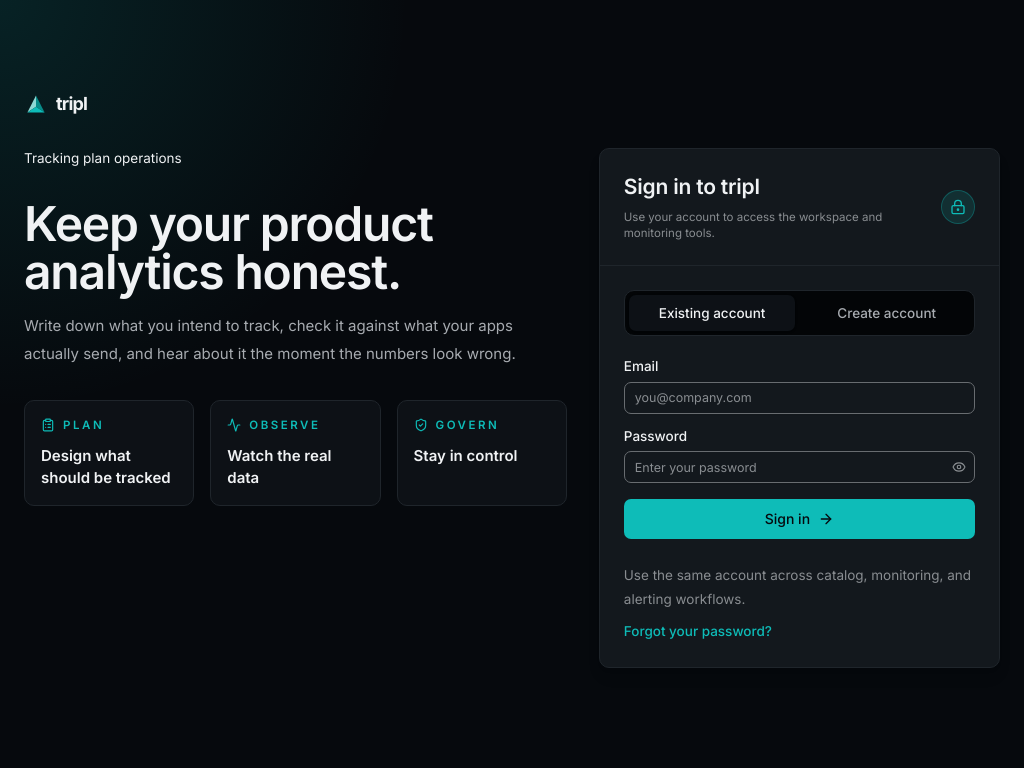
it: AuthPage › names the password rule under the field on a short register password
Click the button "Create account".
click(887, 313)  # box [803,295,970,331]
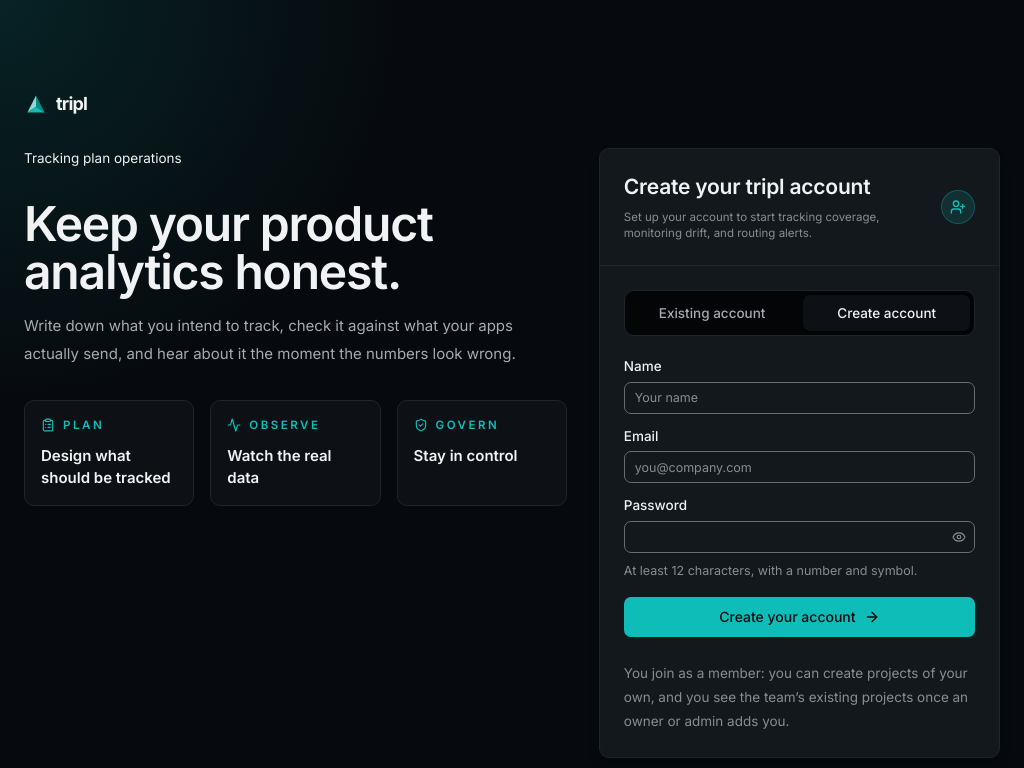
Type "new@example.com" into the field labelled "Email".
click(799, 467); type("new@example.com")  # box [624,451,975,483]
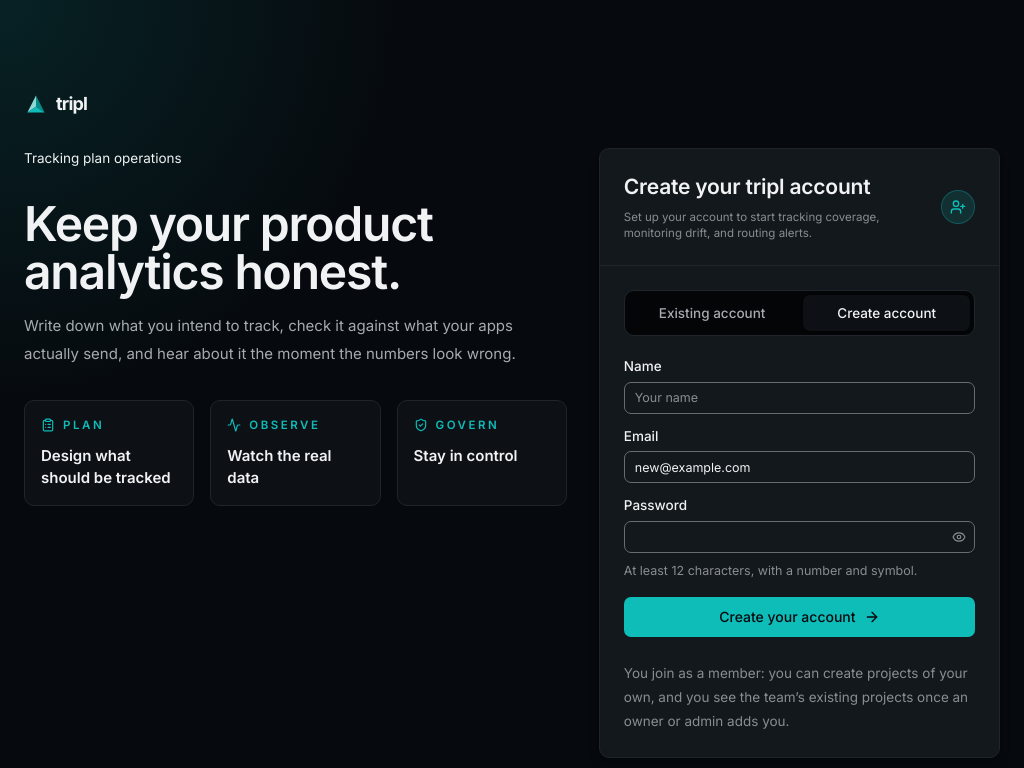
Type "short" into the password field labelled "Password".
click(799, 537); type("short")  # box [624,521,975,553]
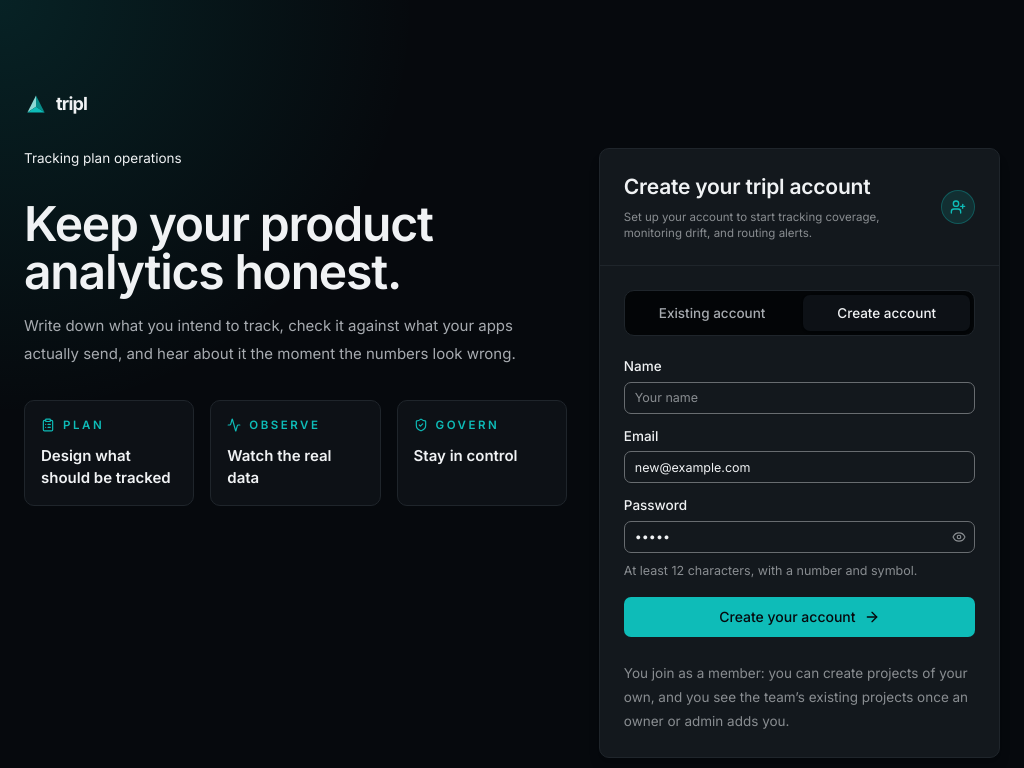
Click the button "Create your account".
click(799, 617)  # box [624,597,975,637]
(page scrolled)
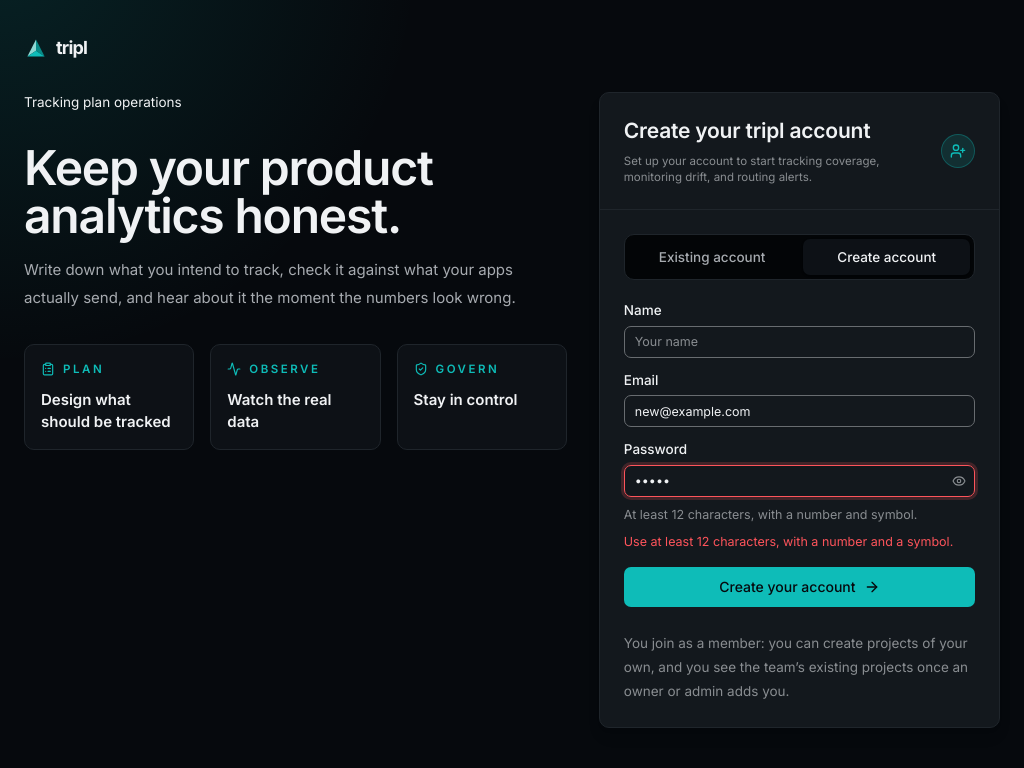
Check: the text "Use at least 12 characters, with a number and a symbol." is shown, box [624,533,975,551]
